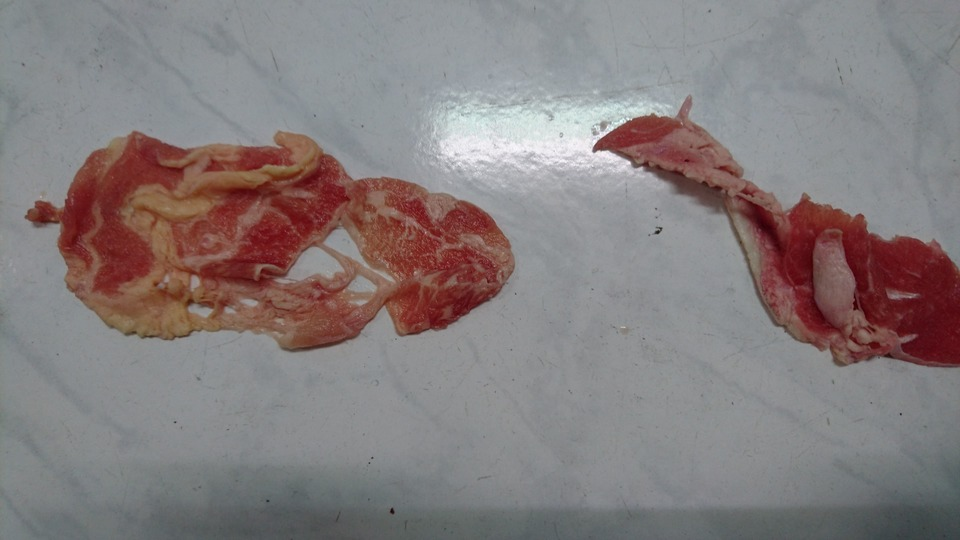restructured meat: (36, 120, 521, 340), (598, 106, 949, 376)
